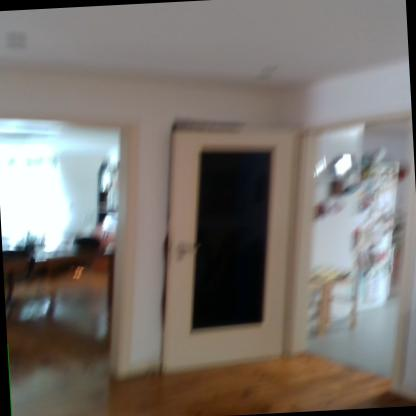open: (150, 100, 415, 415)
